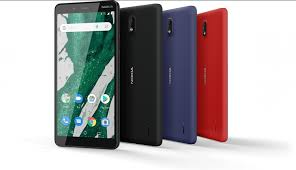nokia: (51, 1, 123, 153), (117, 2, 164, 147), (162, 3, 200, 149), (198, 7, 230, 145)
